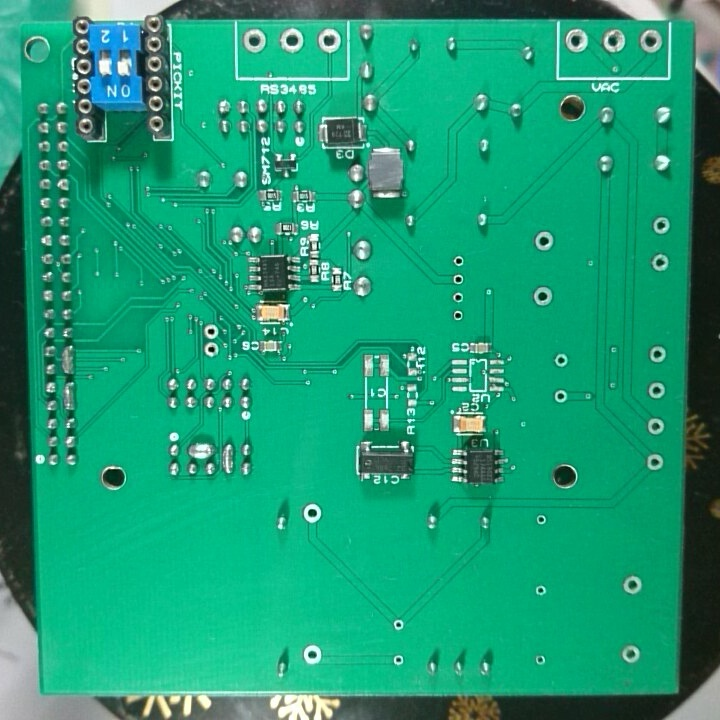F: (599, 24, 629, 57), (276, 25, 306, 56), (563, 26, 592, 55), (240, 26, 268, 56), (315, 26, 345, 54), (637, 25, 664, 56), (619, 572, 646, 600), (531, 228, 558, 254), (300, 500, 325, 528), (300, 642, 325, 669), (618, 640, 643, 667), (529, 283, 554, 310), (648, 212, 672, 238), (643, 449, 666, 476), (645, 413, 668, 440), (648, 249, 671, 276), (646, 341, 670, 366), (645, 378, 668, 402), (551, 386, 571, 409), (201, 339, 222, 359), (552, 349, 569, 372), (202, 320, 220, 340), (532, 580, 549, 601), (450, 287, 468, 306), (389, 614, 406, 634), (531, 652, 549, 670), (390, 651, 407, 669), (450, 271, 467, 289), (450, 252, 468, 269), (449, 306, 465, 324), (534, 511, 548, 529)
P: (185, 438, 218, 461), (59, 378, 80, 413), (59, 342, 79, 377), (220, 440, 236, 477)
